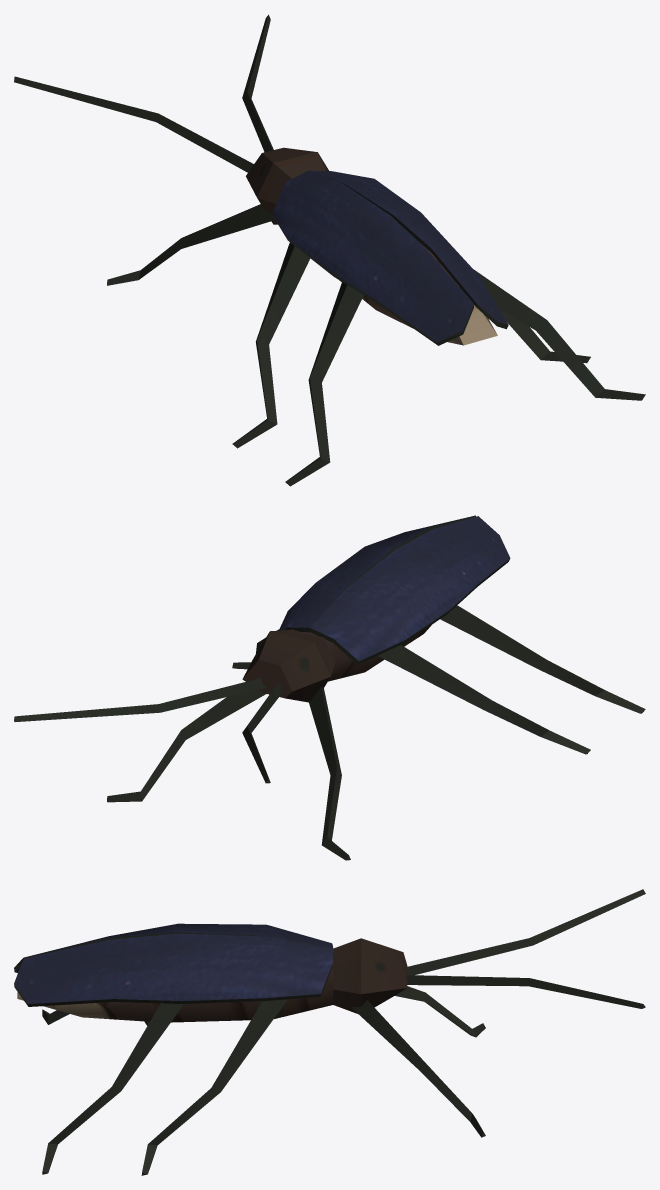
The model's file is Fireflies_01.FBX.
The picture shows the model from 3 angles, top to bottom: view 1: azimuth 30°, elevation 25°; view 2: azimuth 150°, elevation 25°; view 3: azimuth 270°, elevation 25°; orthographic projection. The views are drawn at different scales.
Visible parts, largest first — view 1: Fireflies_01, Fireflies_Wing_Left_01, Fireflies_Wing_Right_01; view 2: Fireflies_01, Fireflies_Wing_Left_01, Fireflies_Wing_Right_01; view 3: Fireflies_01, Fireflies_Wing_Right_01, Fireflies_Wing_Left_01.
Part boxes in pixels (x1,y1,x2,y2): Fireflies_01: (14,14,645,486); Fireflies_Wing_Left_01: (272,170,473,345); Fireflies_Wing_Right_01: (309,170,508,329); Fireflies_01: (14,605,645,860); Fireflies_Wing_Left_01: (309,516,510,664); Fireflies_Wing_Right_01: (279,515,475,632); Fireflies_01: (17,889,645,1175); Fireflies_Wing_Right_01: (14,933,333,1006); Fireflies_Wing_Left_01: (14,923,333,972).
Size of the model in its own units: 24.05 by 11.27 by 39.48.
